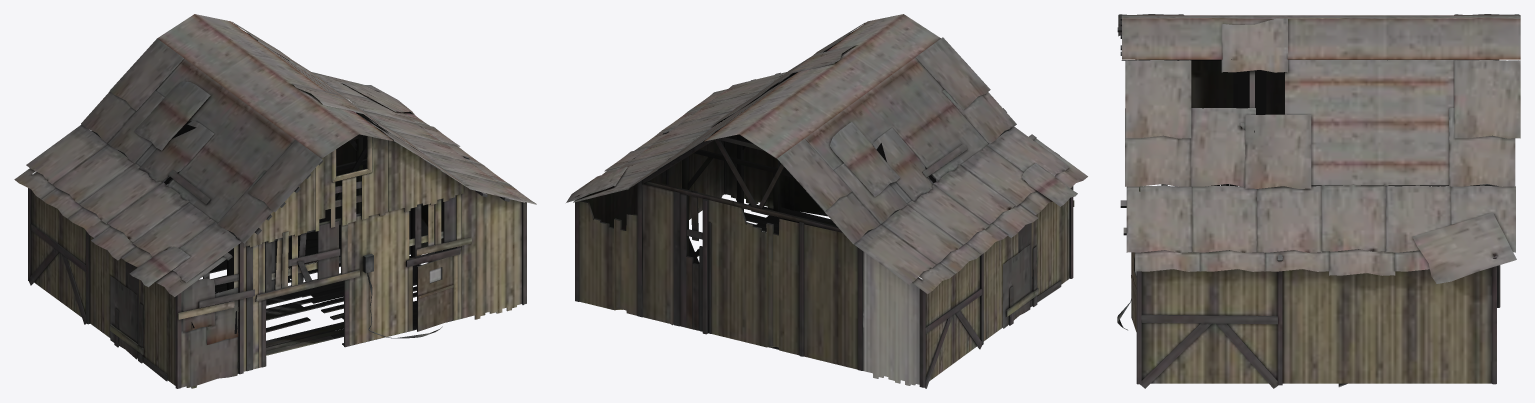
Rendered from barn.glb.
3 views of the same model, side by side, from view 1: azimuth 30°, elevation 25°; view 2: azimuth 150°, elevation 25°; view 3: azimuth 270°, elevation 25° (orthographic). The views are drawn at different scales.
Visible parts, largest first — view 1: Object002_Object002_mtl_0; view 2: Object002_Object002_mtl_0; view 3: Object002_Object002_mtl_0.
Part boxes in pixels (x1,y1,x2,y2): Object002_Object002_mtl_0: [14, 14, 536, 388]; Object002_Object002_mtl_0: [566, 14, 1087, 388]; Object002_Object002_mtl_0: [1117, 14, 1520, 388].
Size of the model in its own units: 244 by 135 by 183.
Materials: 1 (1 with a texture image).
